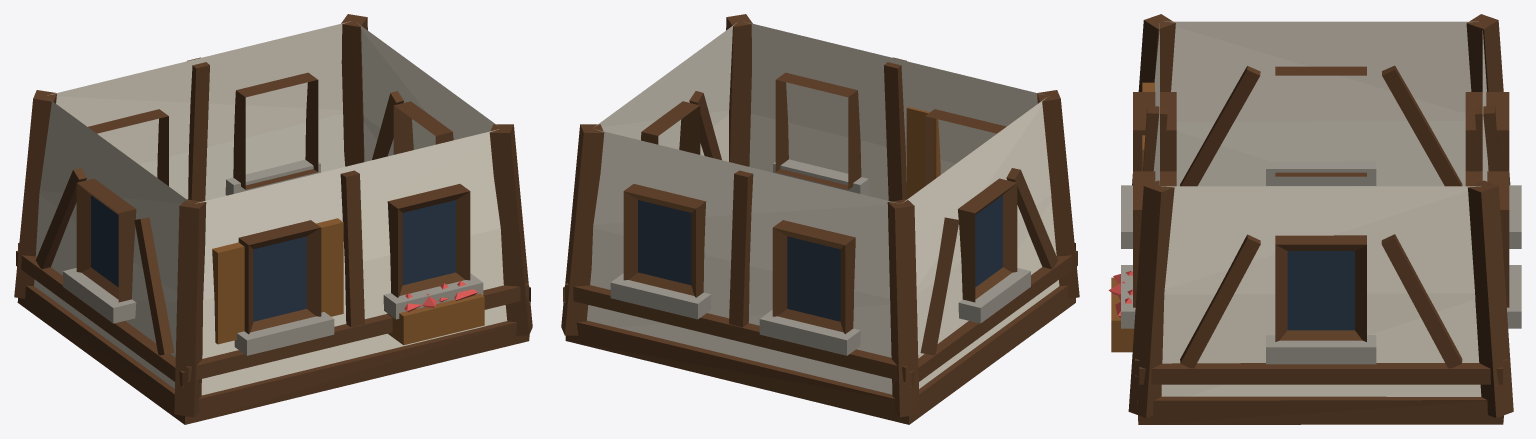
The model's file is house_upper_a.glb.
The picture shows the model from 3 angles, left to right: view 1: azimuth 30°, elevation 25°; view 2: azimuth 150°, elevation 25°; view 3: azimuth 270°, elevation 25°; orthographic projection. The views are drawn at different scales.
Visible parts, largest first — view 1: house_upper_a; view 2: house_upper_a; view 3: house_upper_a.
Part boxes in pixels (x1,y1,x2,y2): house_upper_a: (14, 14, 532, 424); house_upper_a: (561, 14, 1079, 424); house_upper_a: (1108, 14, 1521, 424).
Size of the model in its own units: 0.696 by 0.3776 by 0.6145.
